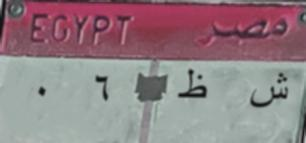0: (30, 77, 53, 111)
6: (85, 69, 123, 112)
Thaa: (175, 64, 214, 104)
sheen: (242, 67, 295, 116)
